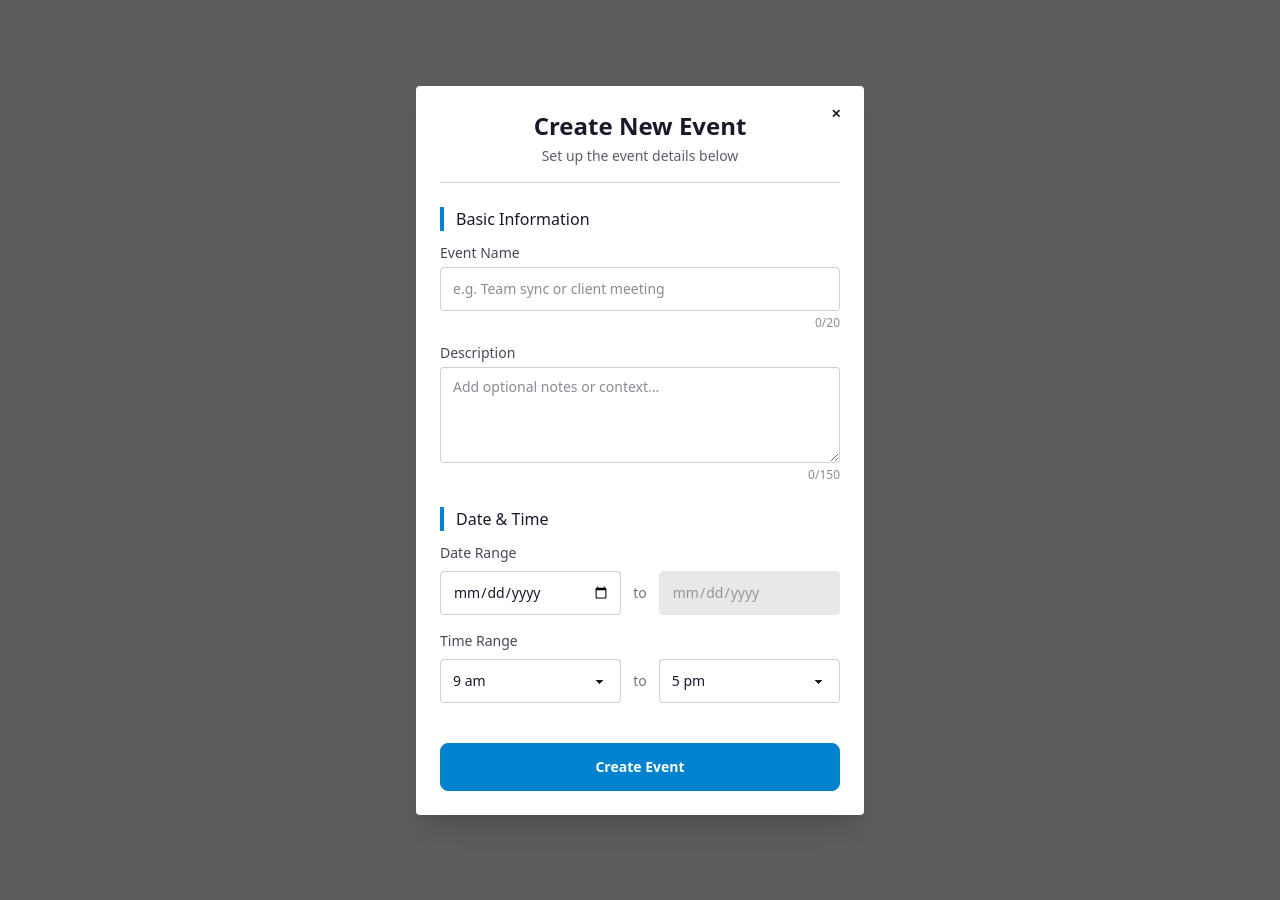
Test case: EventModal Component › shows validation error when end time is earlier than start time
# Fill valid base fields
Type "Meeting" into the field labelled "Event Name". click: (640, 288)
box: top-left (440, 266), bottom-right (840, 310)
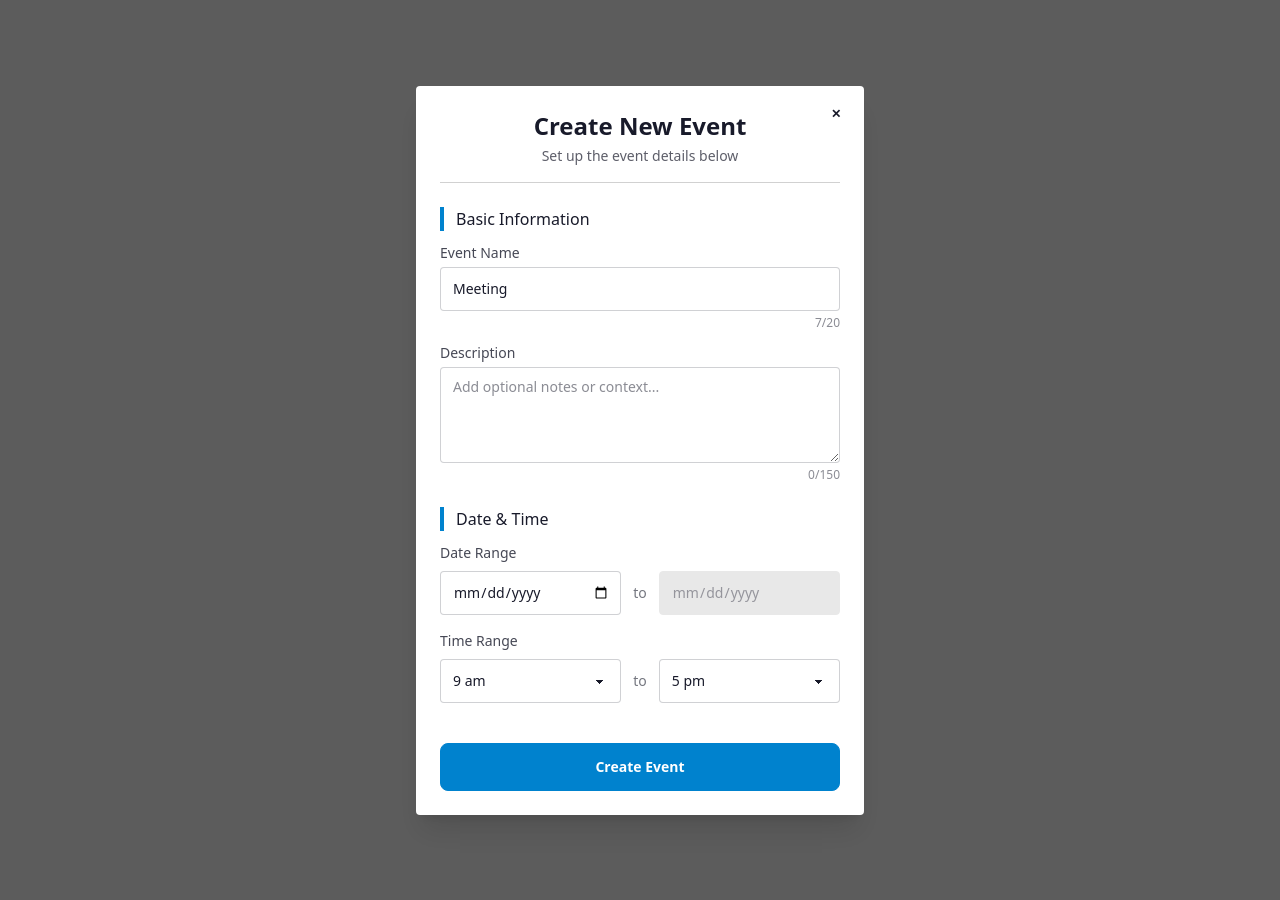
Type "Team meeting" into the text box labelled "Description". click: (640, 414)
box: top-left (440, 366), bottom-right (840, 462)
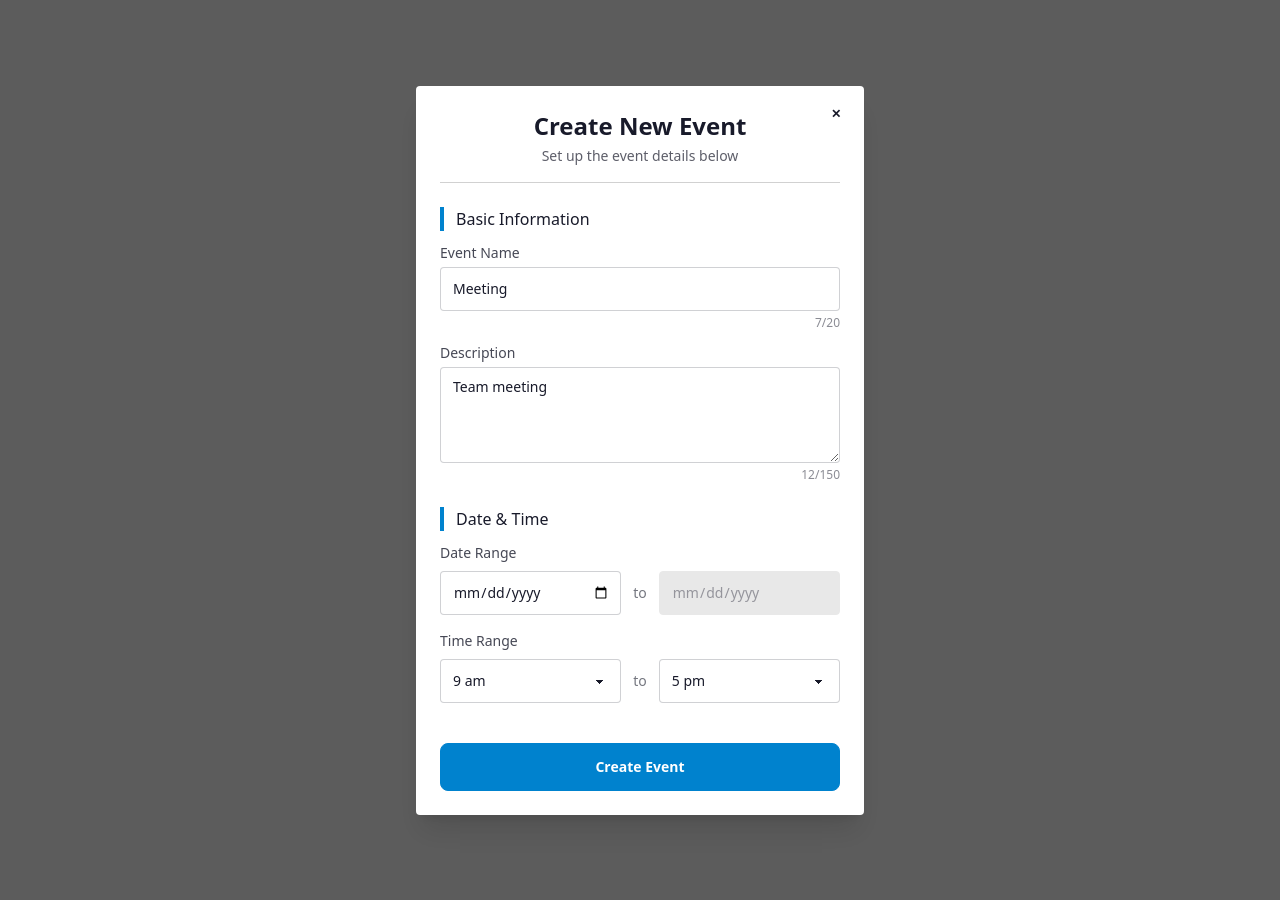
# Fill valid dates
Type "2026-11-13" into the date field with id "start-date". click: (531, 592)
box: top-left (440, 570), bottom-right (621, 614)
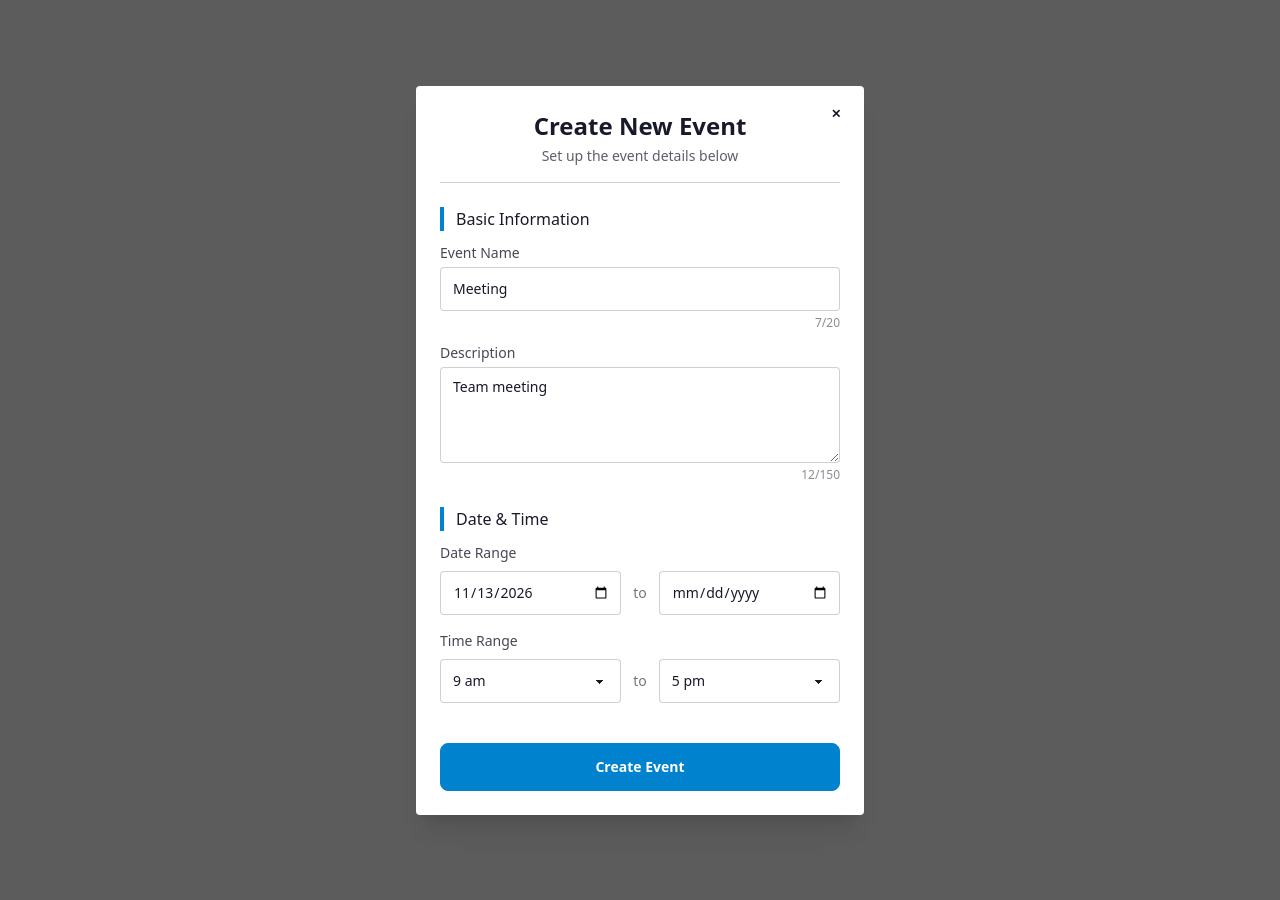
Result: the date field with id "end-date" is enabled at top-left (659, 570), bottom-right (840, 614)
Select "5 pm" in the dropdown with id "start-time". click: (531, 680)
box: top-left (440, 658), bottom-right (621, 702)
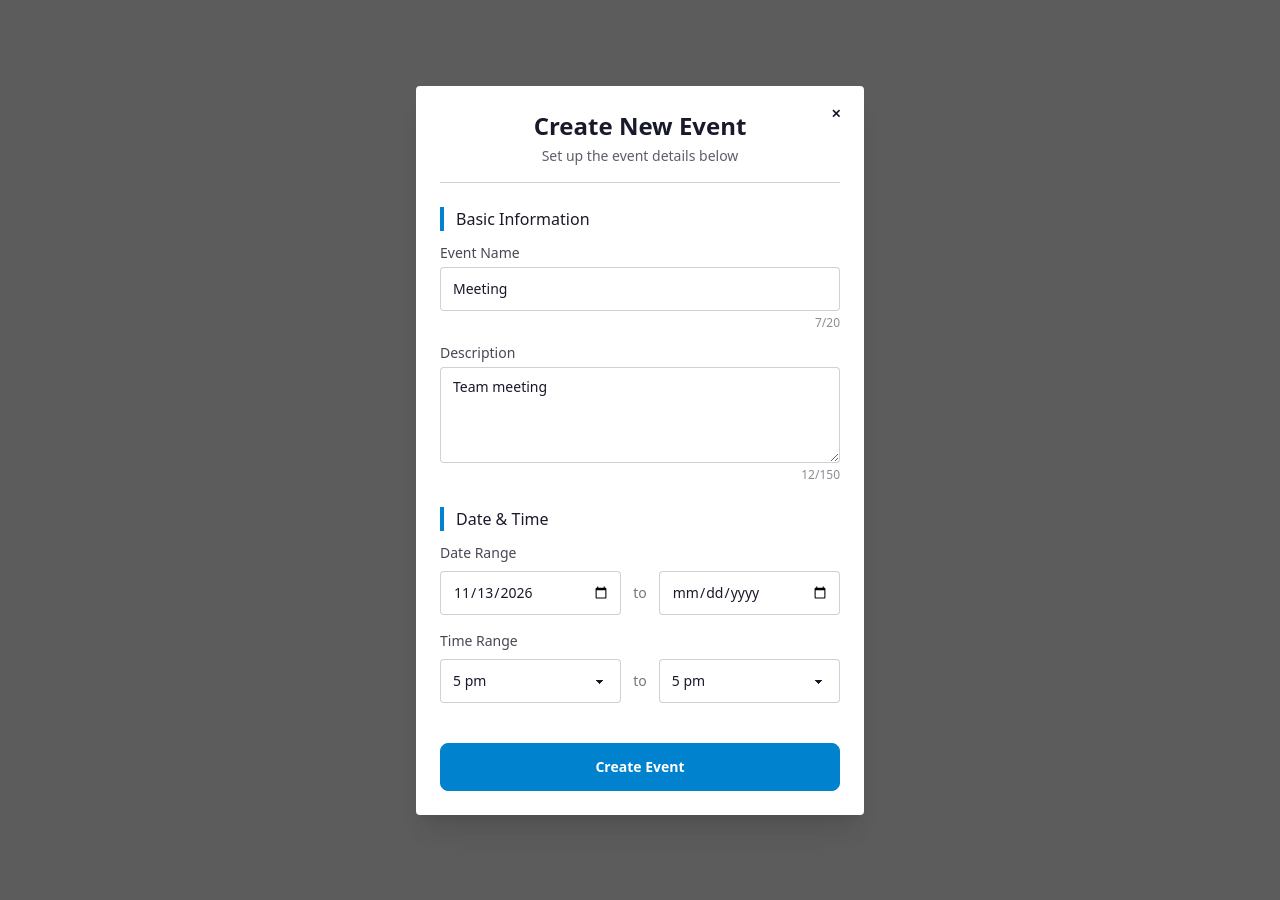
Select "3 pm" in the dropdown with id "end-time". click: (749, 680)
box: top-left (659, 658), bottom-right (840, 702)
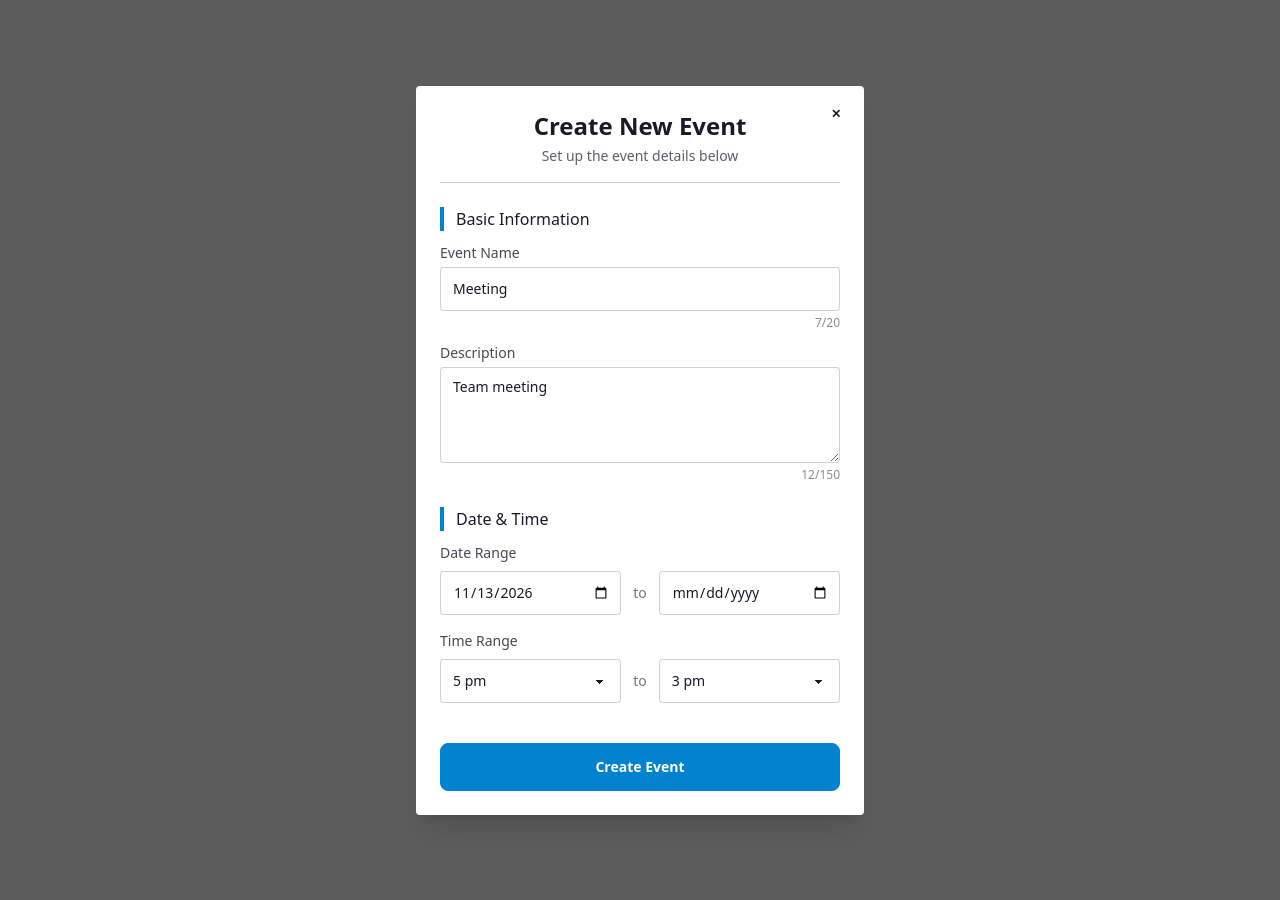
Click the button "Create Event". click: (640, 766)
box: top-left (440, 742), bottom-right (840, 790)
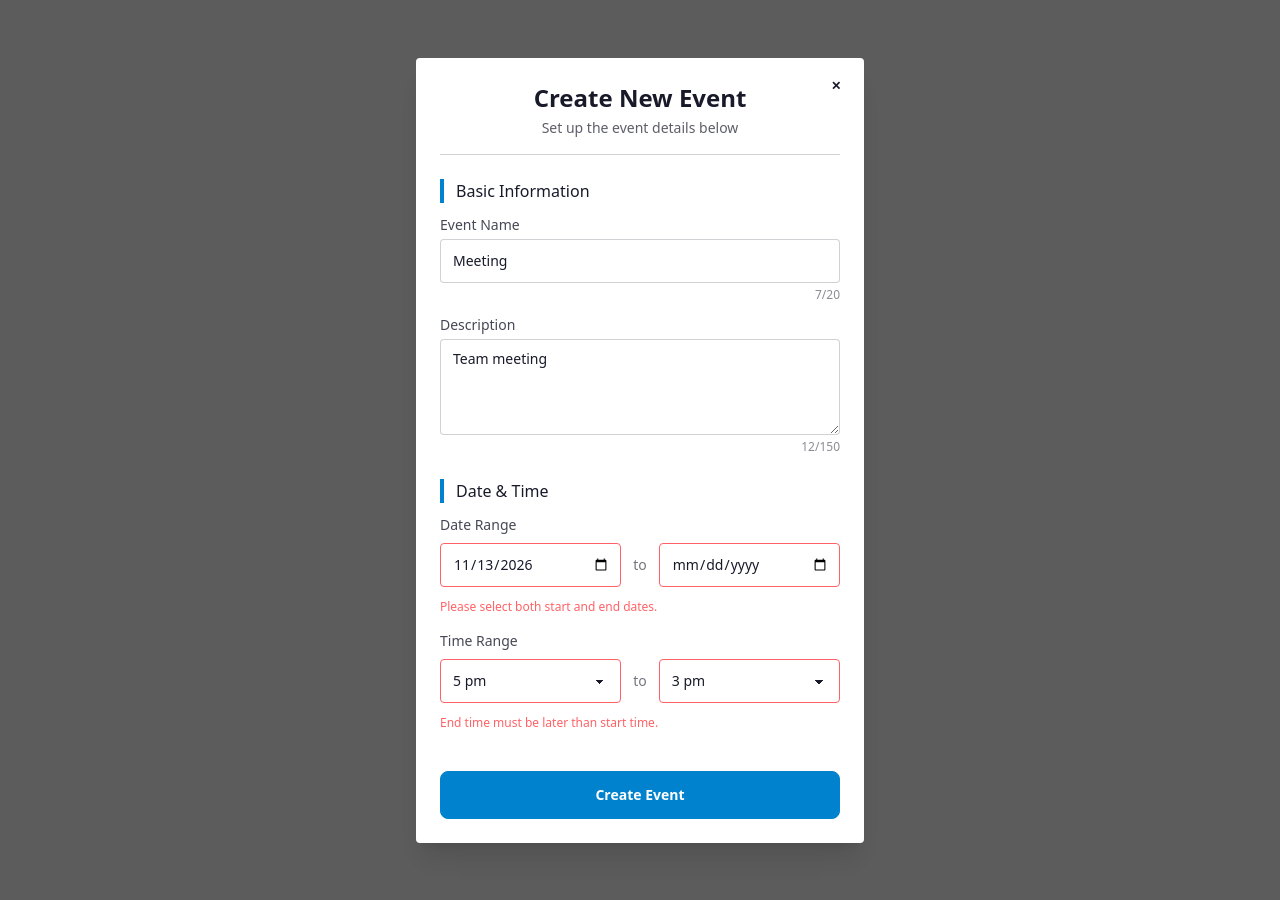
Result: the text "End time must be later than start time." is shown at top-left (440, 714), bottom-right (658, 730)
